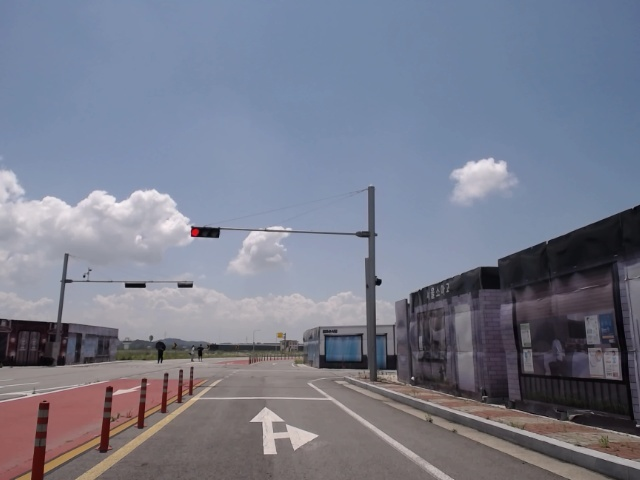red_3: (190, 225, 221, 239)
